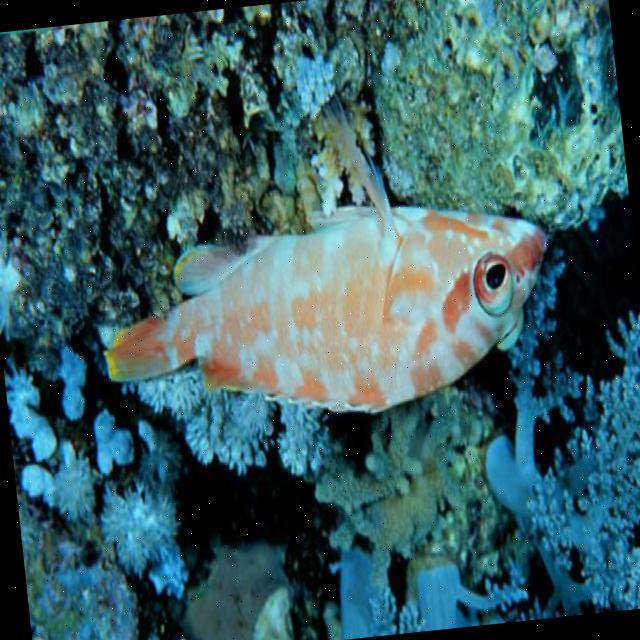ikan: (79, 73, 566, 444)
